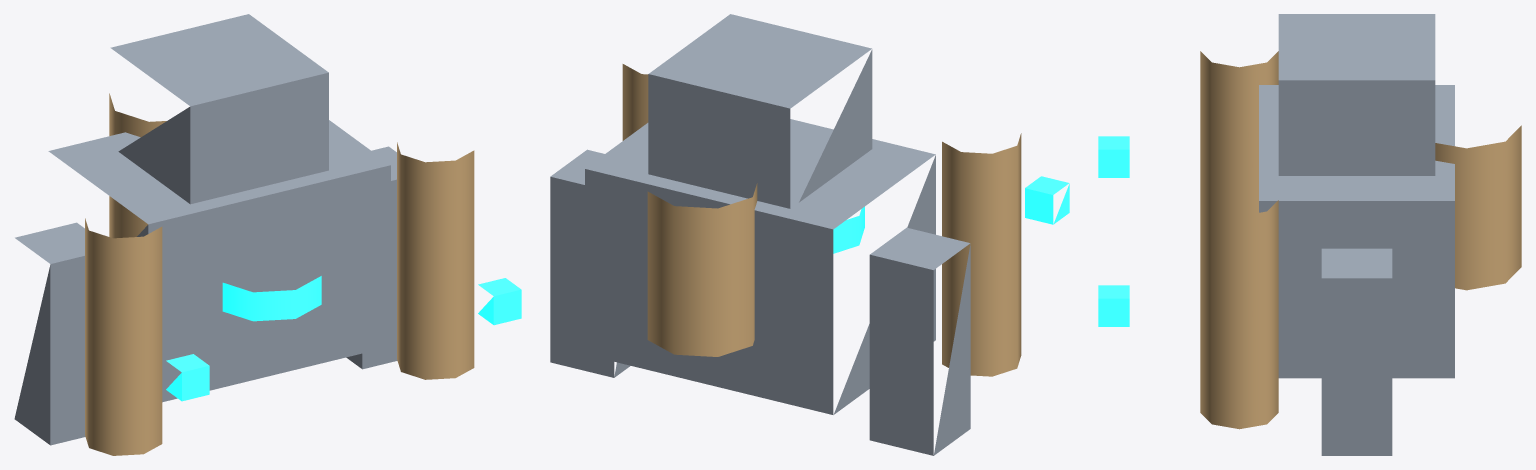
File: golem_galvanic_04.glb
3 renders of one model, left to right at view 1: azimuth 30°, elevation 25°; view 2: azimuth 150°, elevation 25°; view 3: azimuth 270°, elevation 25°, orthographic. The views are drawn at different scales.
Parts seen in each view (by area): view 1: GalvanicBody, GalvanicCoils, GalvanicGlow; view 2: GalvanicBody, GalvanicCoils, GalvanicGlow; view 3: GalvanicBody, GalvanicCoils, GalvanicGlow.
Part boxes in pixels (box(x1,y1,x2,y2)): GalvanicBody: box(14, 14, 397, 445); GalvanicCoils: box(85, 93, 474, 455); GalvanicGlow: box(166, 276, 521, 401); GalvanicBody: box(550, 14, 970, 455); GalvanicCoils: box(622, 64, 1021, 376); GalvanicGlow: box(833, 176, 1069, 253); GalvanicBody: box(1259, 14, 1454, 455); GalvanicCoils: box(1200, 51, 1521, 429); GalvanicGlow: box(1098, 136, 1129, 326).
Size of the model in its own units: 1.1 by 0.9 by 1.08.
